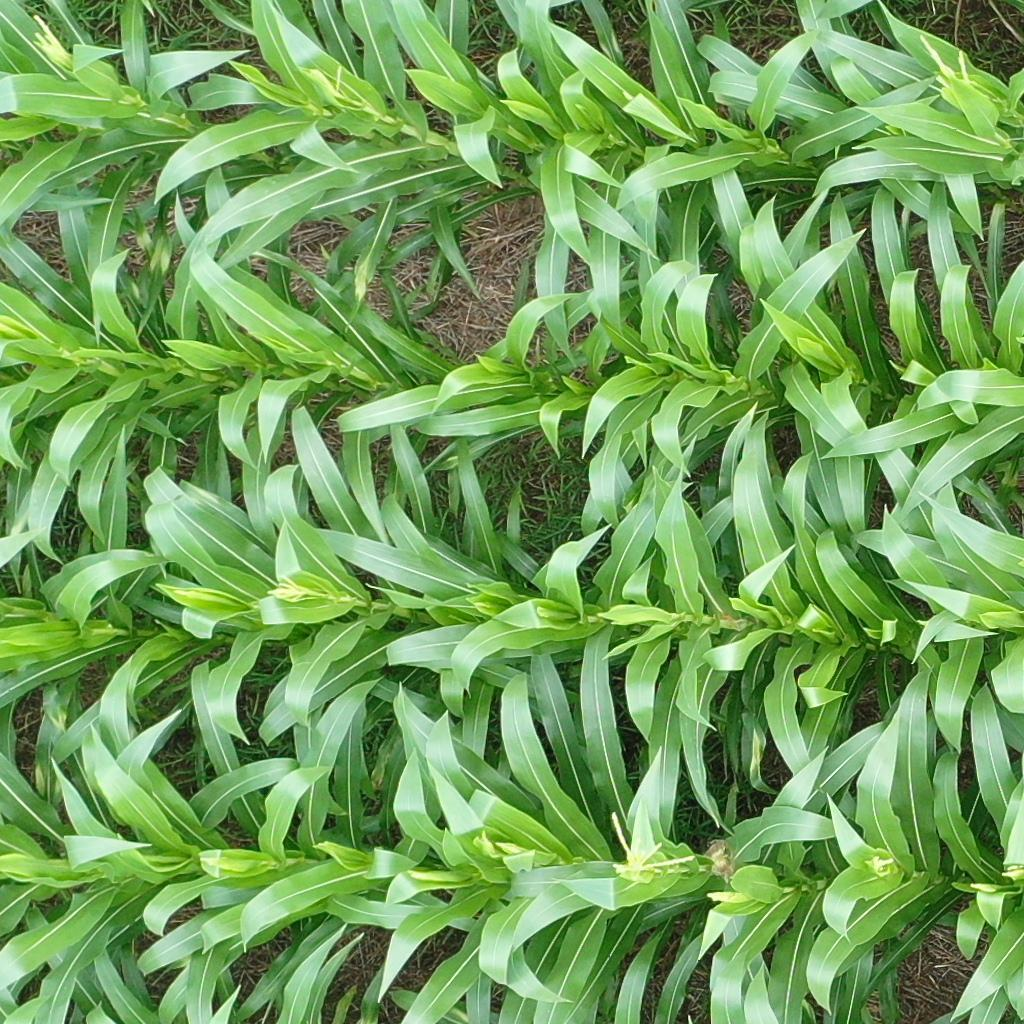Tassel: (608, 811, 703, 881), (914, 31, 973, 98), (24, 13, 80, 73), (262, 573, 320, 611), (309, 60, 348, 100), (858, 853, 894, 876)
